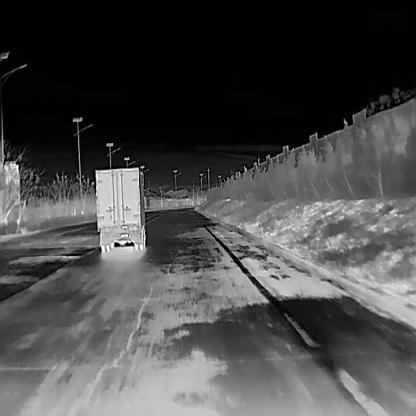truck: (94, 166, 149, 251)
